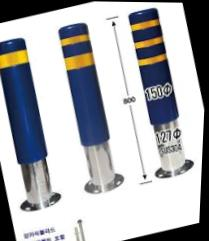Animal: (53, 19, 131, 190), (0, 31, 67, 202)
